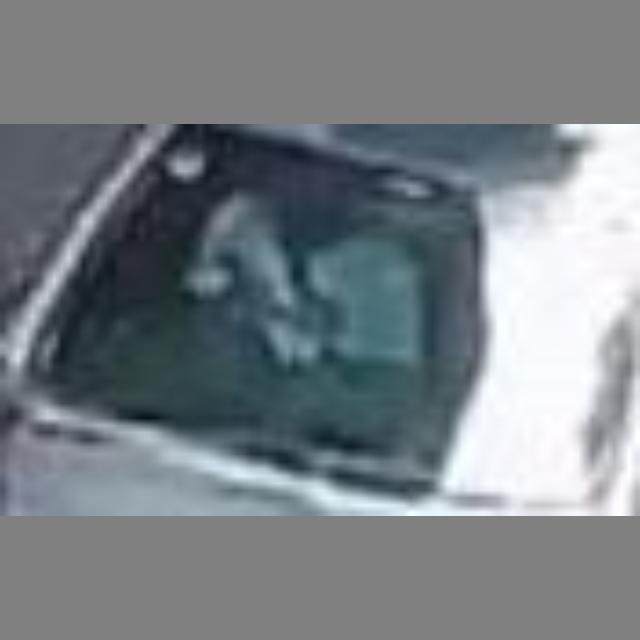pakai: (204, 175, 422, 393)
